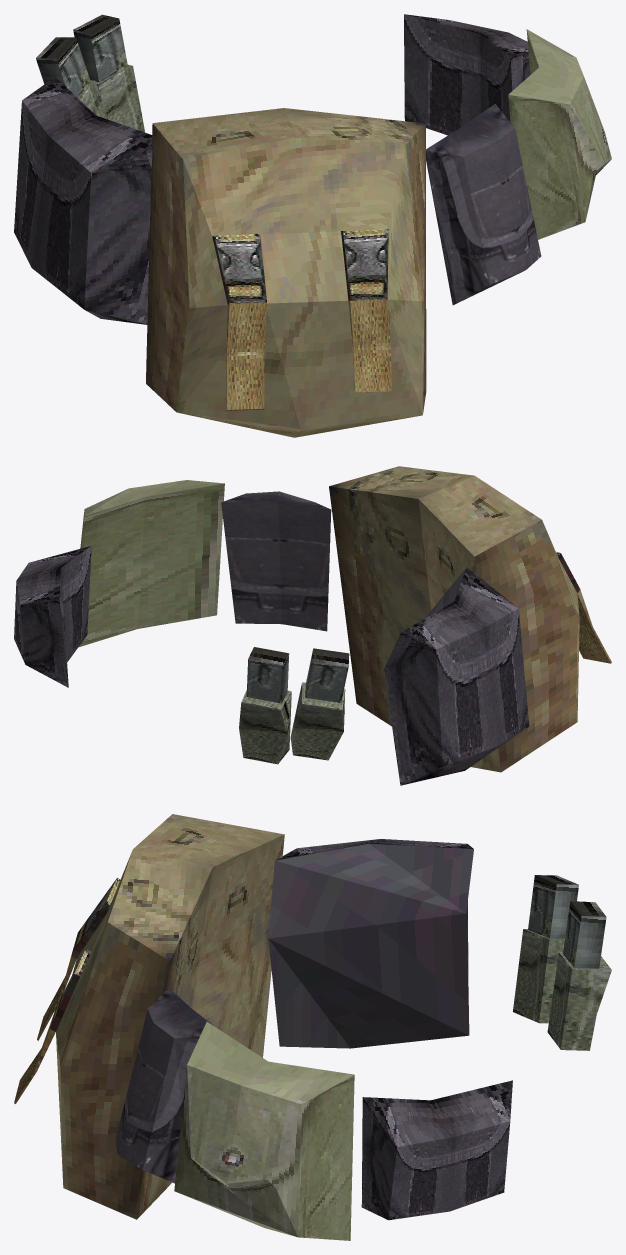
The model's file is recovered_gear_seal_aslt_gear_defa6841755e.glb.
The picture shows the model from 3 angles, top to bottom: view 1: azimuth 30°, elevation 25°; view 2: azimuth 150°, elevation 25°; view 3: azimuth 270°, elevation 25°; orthographic projection. The views are drawn at different scales.
Parts seen in each view (by area): view 1: seal_aslt_gear; view 2: seal_aslt_gear; view 3: seal_aslt_gear.
Part boxes in pixels (x1,y1,x2,y2): seal_aslt_gear: (14, 14, 611, 437); seal_aslt_gear: (14, 466, 611, 785); seal_aslt_gear: (14, 814, 611, 1240).
Size of the model in its own units: 0.4958 by 0.2852 by 0.4653.
Materials: 6 (6 with a texture image).
